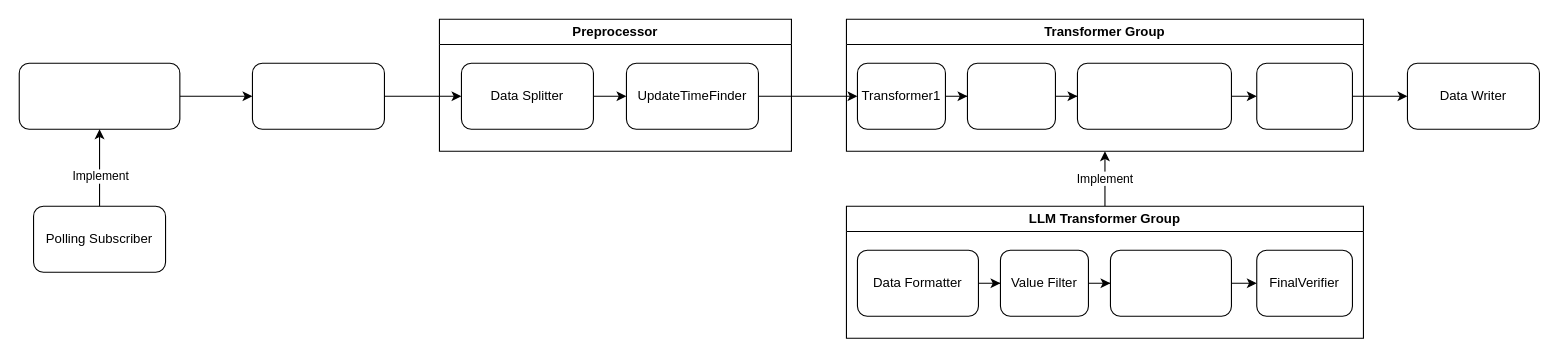
Image size: 1559x358. Some labels were removed from this diagram. The shapes that lost their labels are listed below. From the top down, each one's centre as x and y in pixels, then its label:
At (99,95): "Data Subscriber".
At (317,95): "Data Source".
At (1010,95): "Transformer2".
At (1153,95): "Transformer...".
At (1304,95): "TransformerN".
At (1170,282): "Fuzzy Extractor".
